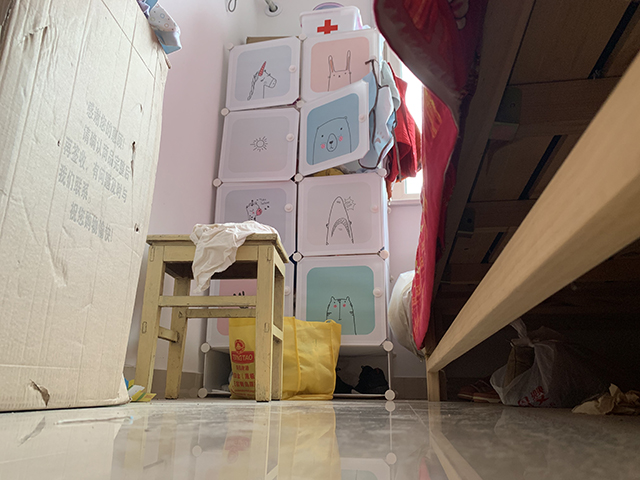bed: (373, 1, 640, 402)
stool: (134, 225, 289, 405)
